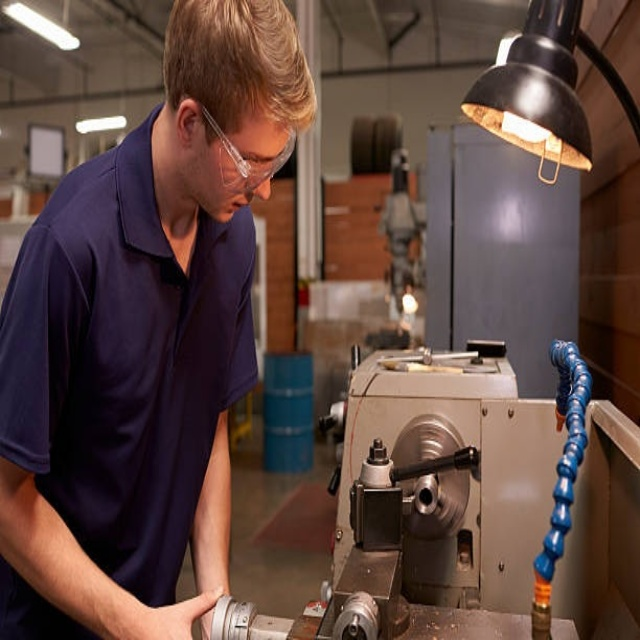Gafas: (197, 102, 295, 196)
Sin_mascara: (209, 195, 260, 224)
